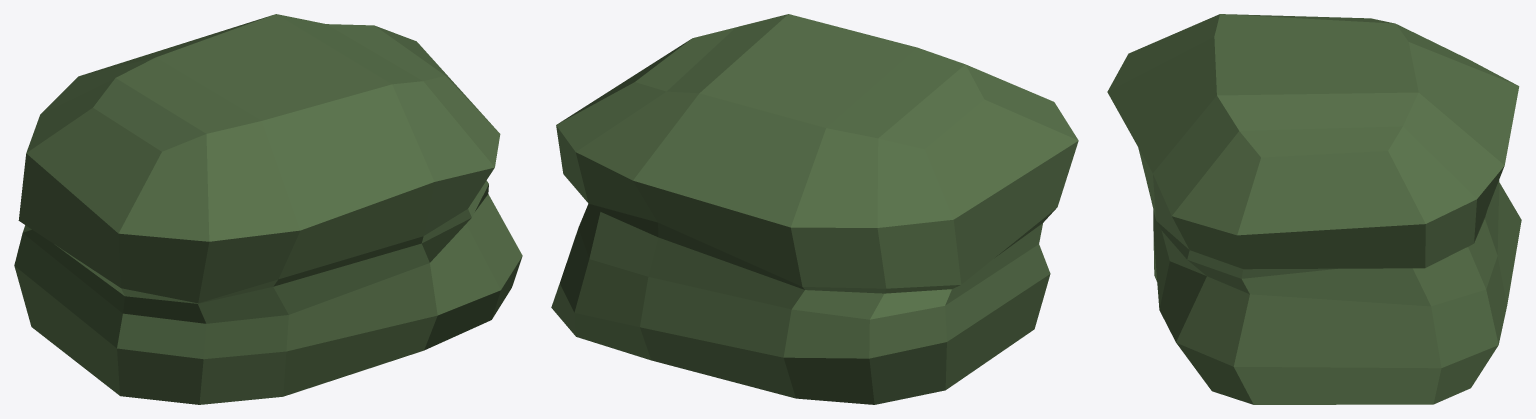
Rendered from BushBerries_3.glb.
3 views of the same model, side by side, from view 1: azimuth 30°, elevation 25°; view 2: azimuth 150°, elevation 25°; view 3: azimuth 270°, elevation 25° (orthographic). The views are drawn at different scales.
Visible parts, largest first — view 1: BushBerries_3; view 2: BushBerries_3; view 3: BushBerries_3.
Part boxes in pixels (<box>): BushBerries_3: <box>14,14,522,404</box>; BushBerries_3: <box>551,14,1078,404</box>; BushBerries_3: <box>1107,14,1521,404</box>.
Bounding box in the file's own units: 1.27 × 0.7438 × 1.11.
